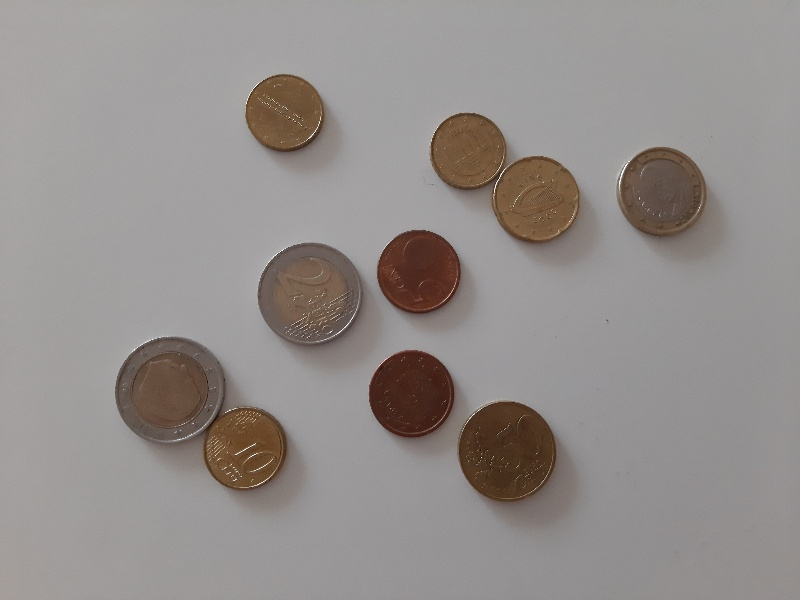1 euro: (614, 143, 708, 241)
10 cent: (200, 405, 293, 493), (427, 107, 508, 193), (243, 71, 326, 153)
2 euro: (111, 334, 229, 448), (254, 241, 363, 346)
20 cent: (491, 154, 583, 243)
5 cent: (367, 348, 454, 438), (375, 228, 463, 314)
50 cent: (454, 400, 559, 505)
